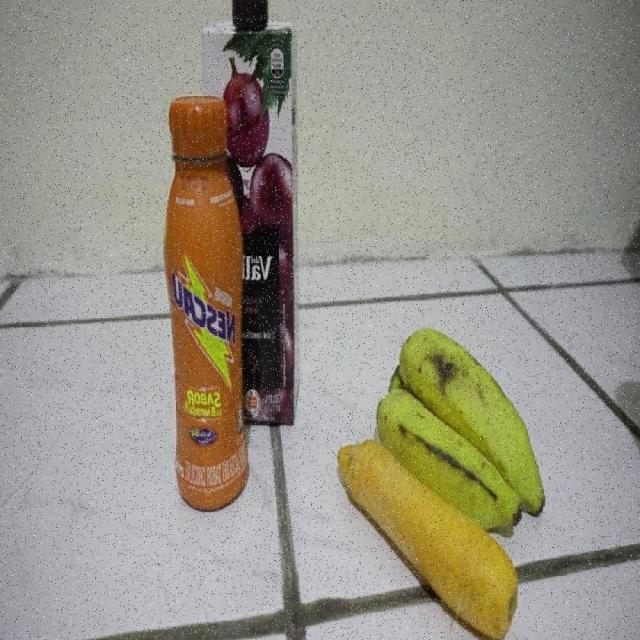Banana: (415, 324, 543, 472)
Carrot: (379, 482, 523, 640)
ChocolateMilk: (164, 97, 242, 509)
